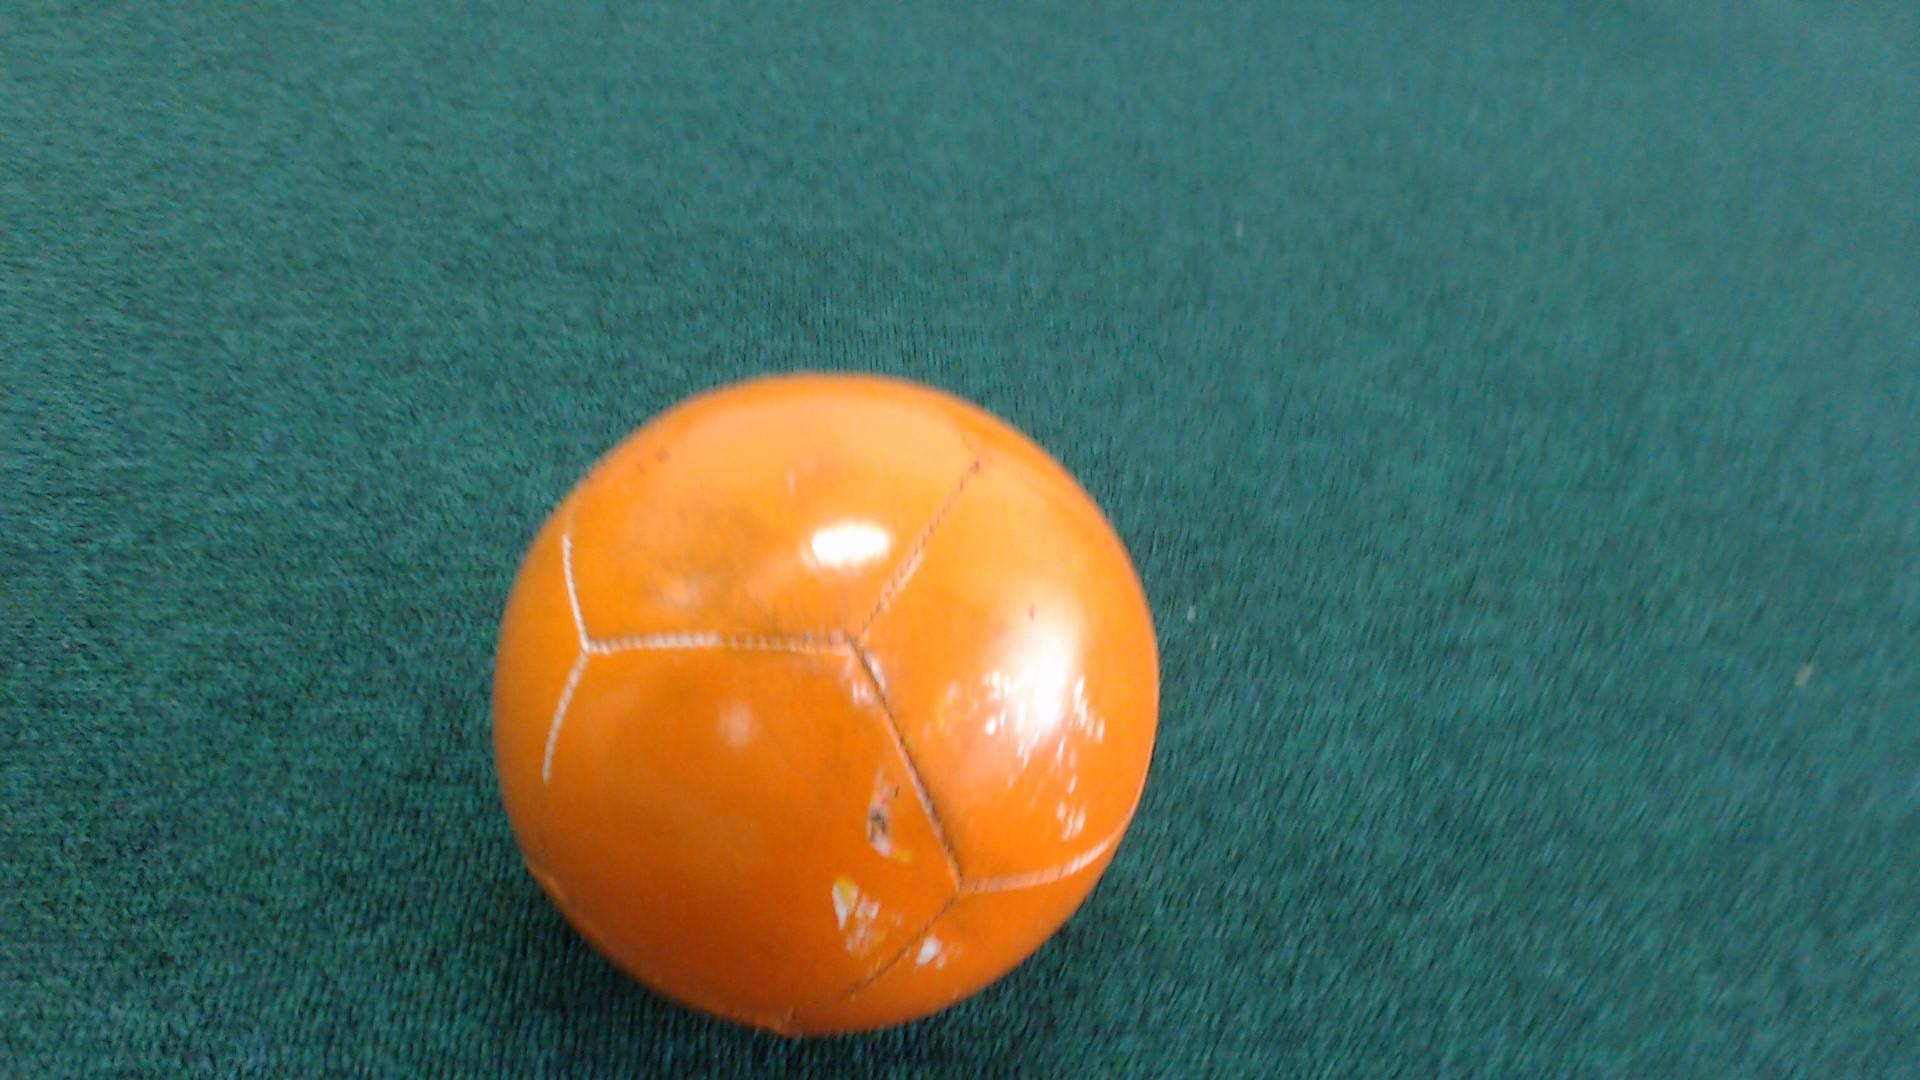bola: (464, 340, 1189, 1058)
